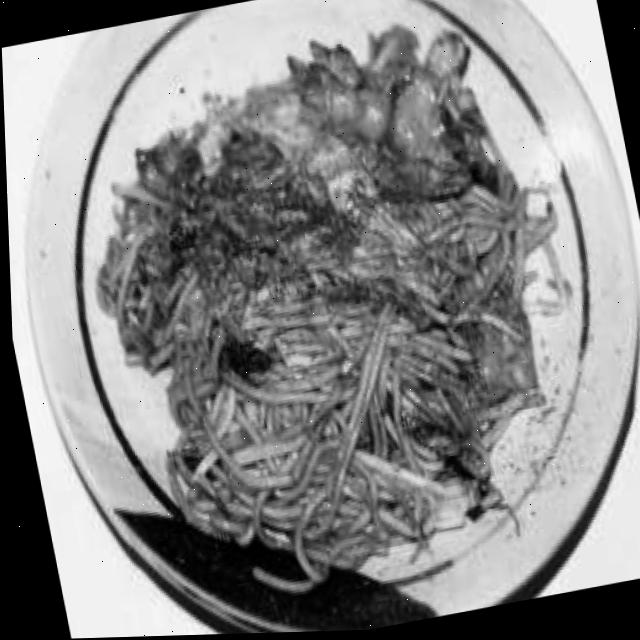面条主食: (44, 0, 623, 618)
